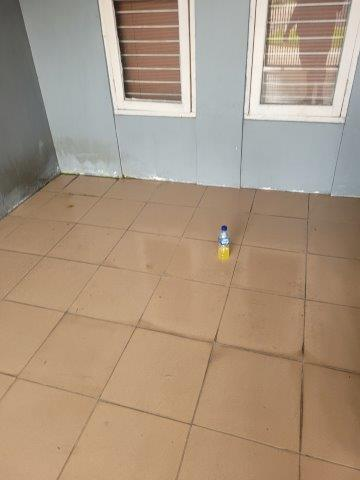botolplastik: (217, 225, 230, 259)
